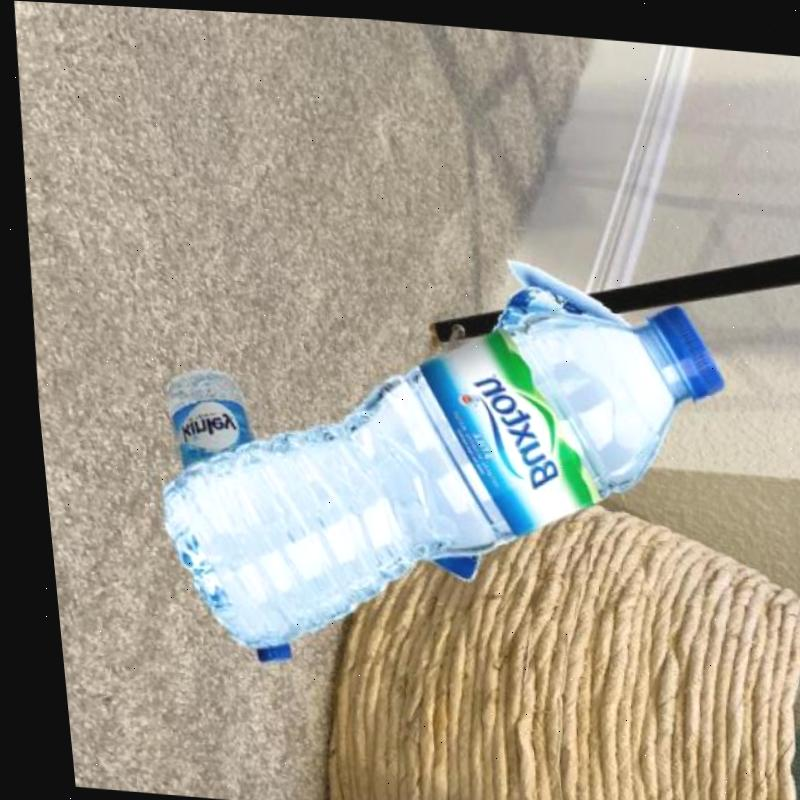botella: (141, 258, 742, 681), (406, 270, 620, 595), (142, 360, 292, 661)
